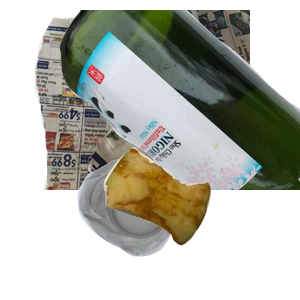glass: (60, 10, 300, 190)
paper: (32, 10, 272, 190)
plastic: (75, 154, 248, 300)
trash: (101, 145, 300, 300)
